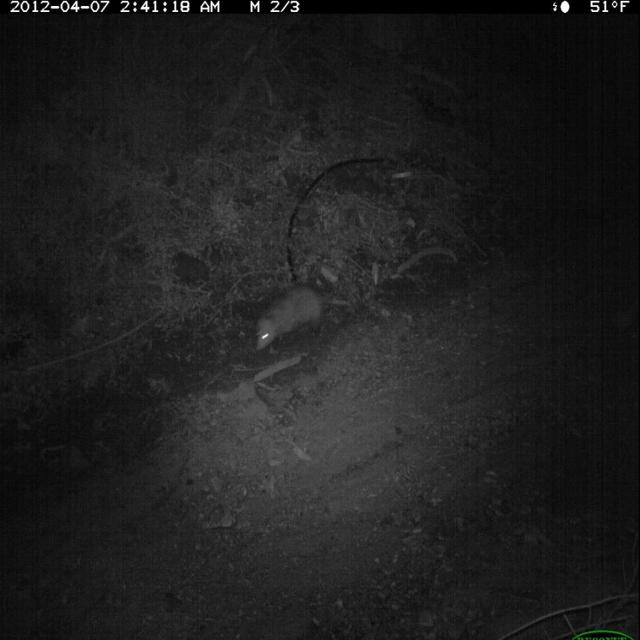opossum: (249, 281, 355, 362)
